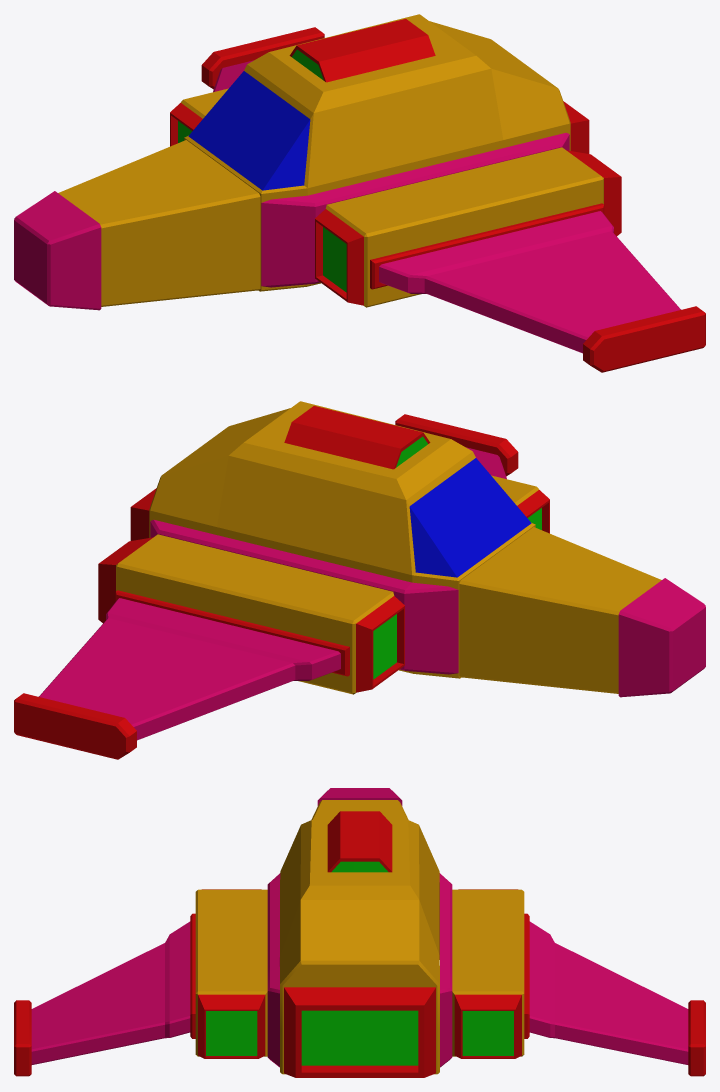
The model's file is Airplane_l 1.fbx.
The picture shows the model from 3 angles, top to bottom: view 1: azimuth 30°, elevation 25°; view 2: azimuth 150°, elevation 25°; view 3: azimuth 270°, elevation 25°; orthographic projection. The views are drawn at different scales.
Parts seen in each view (by area): view 1: Cube.037.frozen; view 2: Cube.037.frozen; view 3: Cube.037.frozen.
Boxes of the visible parts, x1,y1,x2,y2 form: Cube.037.frozen: (14,14,705,372); Cube.037.frozen: (14,401,705,759); Cube.037.frozen: (14,788,705,1077).
Bounding box in the file's own units: 233 × 302 × 85.71.
